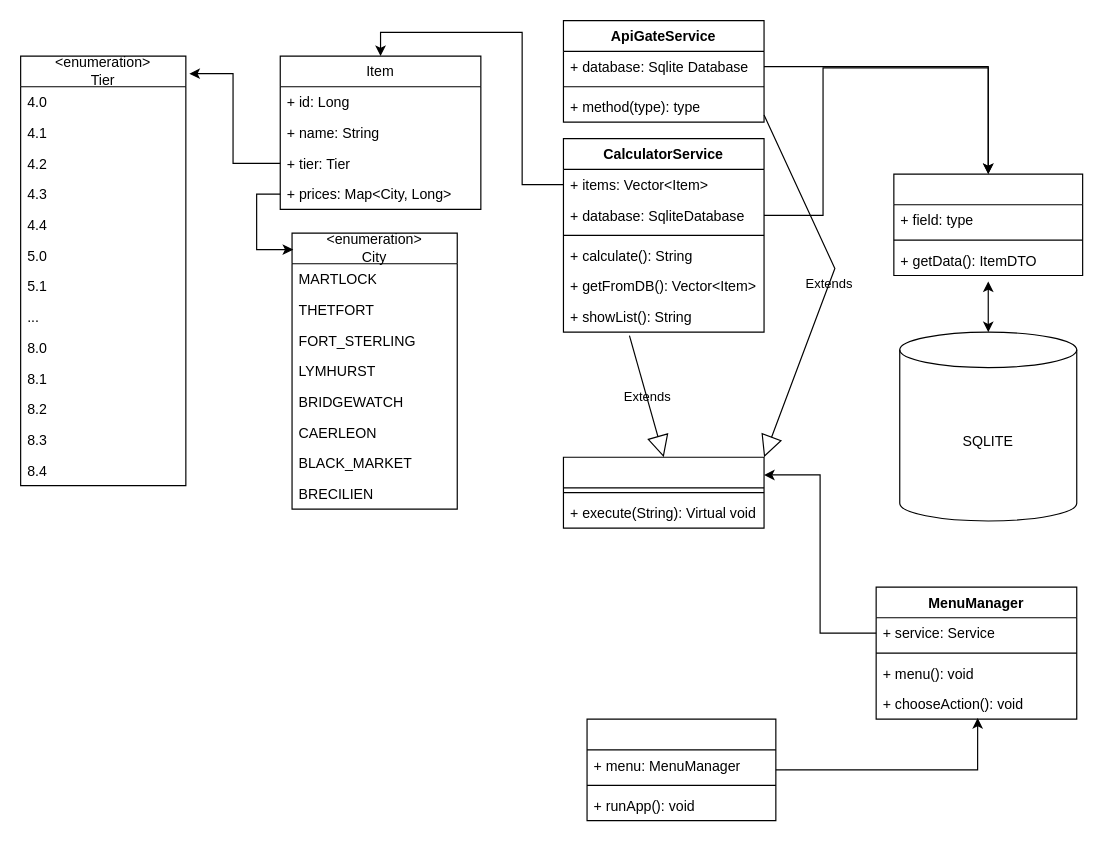
This 1103x845 diagram has some shape labels left out. The shapes that lost their labels are listed below. From the top down, each one's box as (x1, y1, x2, y2) in pixels, then its label:
(893, 173, 1083, 276): SqliteDatabase
(562, 456, 764, 528): Service
(586, 718, 776, 821): AppEngine
